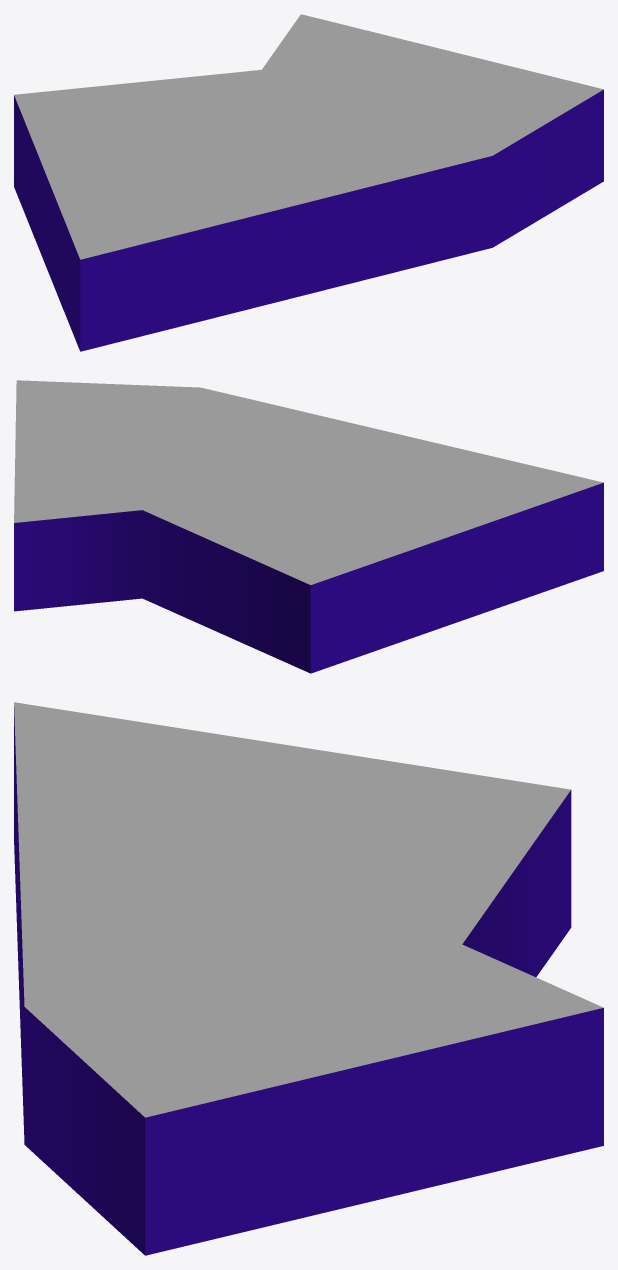
The model's file is Shard_S_6_N_1.fbx.
The picture shows the model from 3 angles, top to bottom: view 1: azimuth 30°, elevation 25°; view 2: azimuth 150°, elevation 25°; view 3: azimuth 270°, elevation 25°; orthographic projection. The views are drawn at different scales.
Parts seen in each view (by area): view 1: pCube1; view 2: pCube1; view 3: pCube1.
Boxes of the visible parts, x1=… form: pCube1: x1=14, y1=14, x2=603, y2=351; pCube1: x1=14, y1=380, x2=603, y2=673; pCube1: x1=14, y1=702, x2=603, y2=1255.
Size of the model in its own units: 2.93 by 0.4539 by 1.76.
